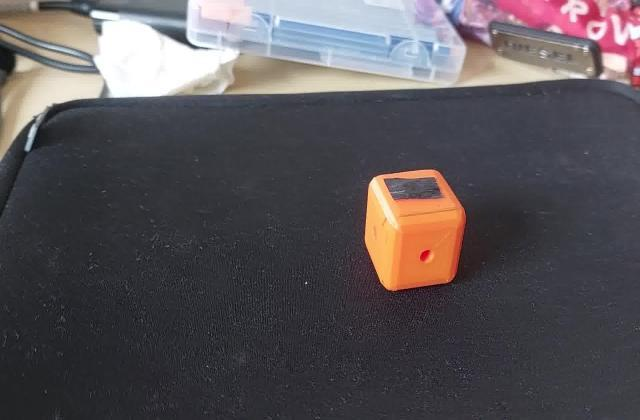black: (382, 172, 445, 206)
cube: (362, 164, 472, 294)
